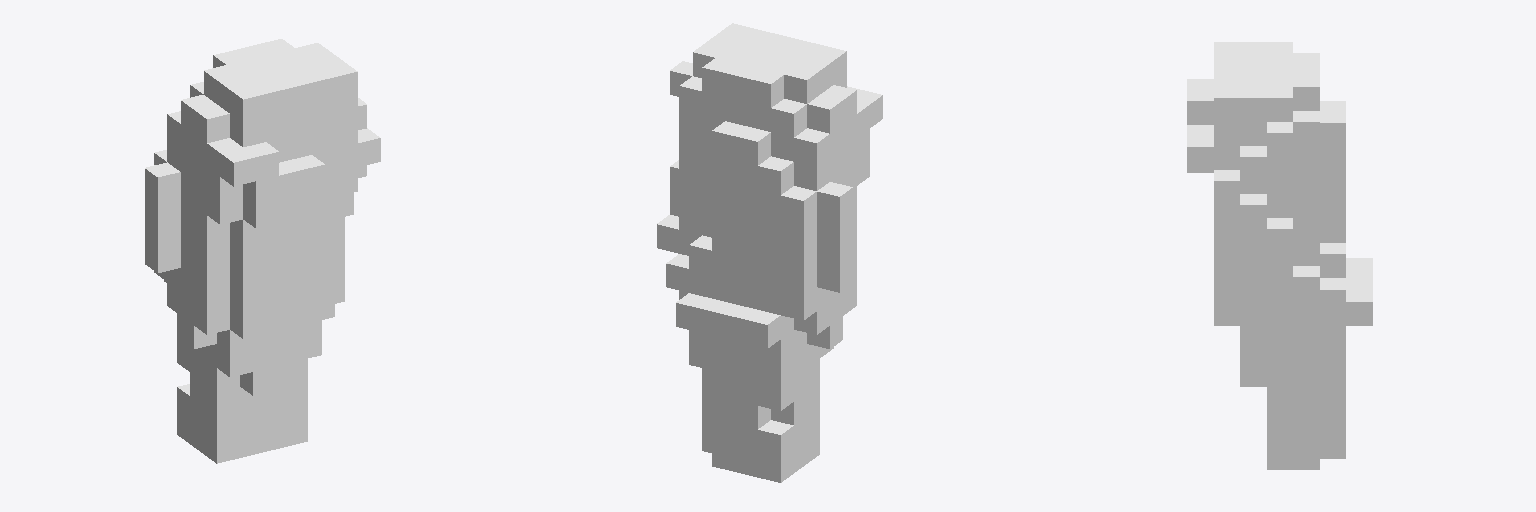
Rendered from Trevor-0.obj.
3 views of the same model, side by side, from view 1: azimuth 30°, elevation 25°; view 2: azimuth 150°, elevation 25°; view 3: azimuth 270°, elevation 25° (orthographic).
Visible parts, largest first — view 1: object 1; view 2: object 1; view 3: object 1.
Boxes of the visible parts, x1=… form: object 1: x1=145, y1=39, x2=380, y2=463; object 1: x1=657, y1=23, x2=882, y2=482; object 1: x1=1187, y1=42, x2=1372, y2=469.
Bounding box in the file's own units: 0.8 × 1.6 × 0.7.